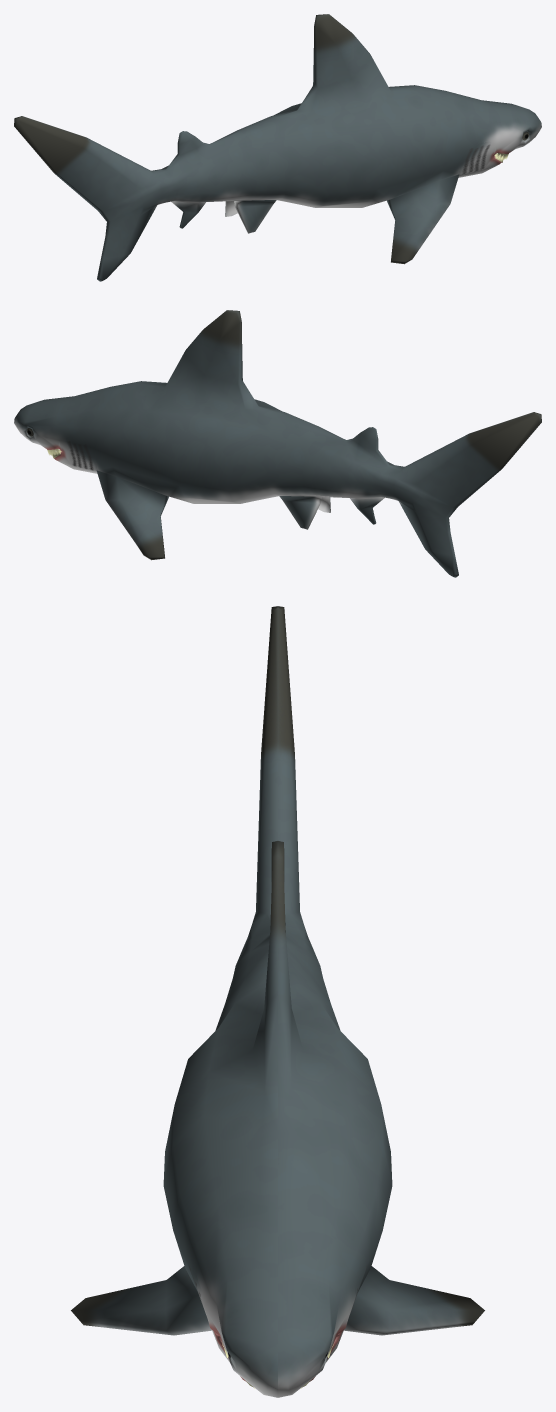
Rendered from shark.obj.
3 views of the same model, one above another, from view 1: azimuth 30°, elevation 25°; view 2: azimuth 150°, elevation 25°; view 3: azimuth 270°, elevation 25° (orthographic). The views are drawn at different scales.
Parts seen in each view (by area): view 1: Default; view 2: Default; view 3: Default.
Part boxes in pixels (x1,y1,x2,y2): Default: (14,14,541,281); Default: (14,310,541,577); Default: (71,606,484,1397).
Bounding box in the file's own units: 7.54 × 3.03 × 2.57.
Materials: 1 (1 with a texture image).
